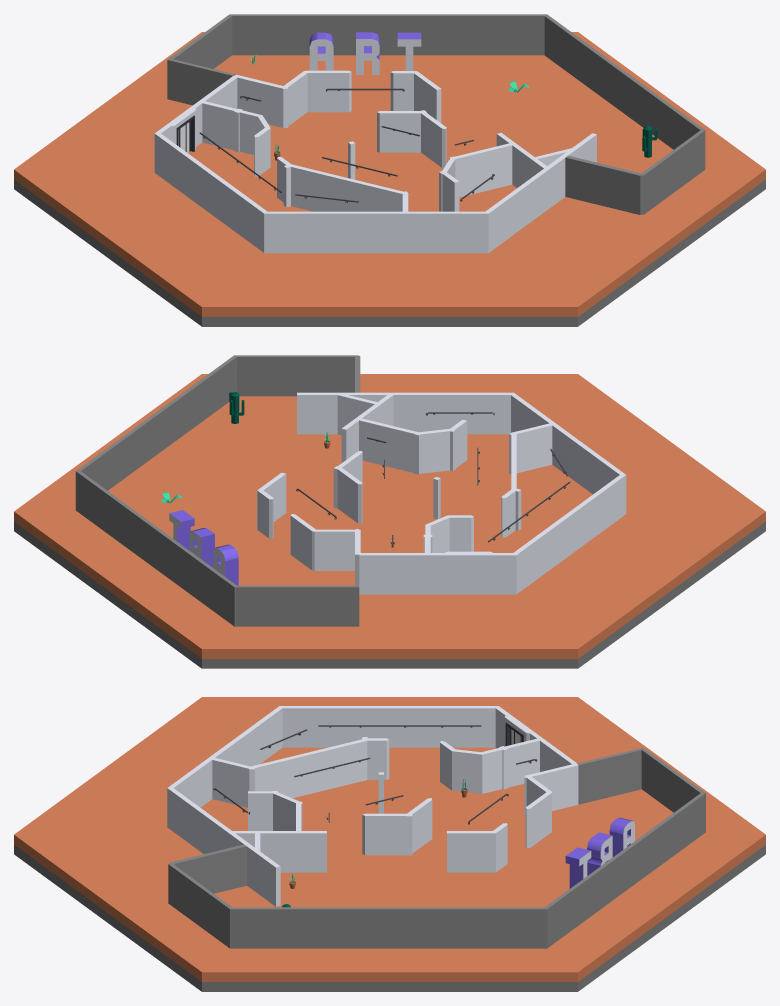
The model's file is Art-Gallery-v1-without roof and ground.fbx.
3 views of the same model, one above another, from view 1: azimuth 30°, elevation 25°; view 2: azimuth 150°, elevation 25°; view 3: azimuth 270°, elevation 25° (orthographic).
Parts seen in each view (by area): view 1: mergedBlocks; view 2: mergedBlocks; view 3: mergedBlocks.
Boxes of the visible parts, bbox=[...] form: mergedBlocks: bbox=[14, 14, 765, 326]; mergedBlocks: bbox=[14, 355, 765, 668]; mergedBlocks: bbox=[14, 697, 765, 991].
Size of the model in its own units: 600 by 150 by 693.
